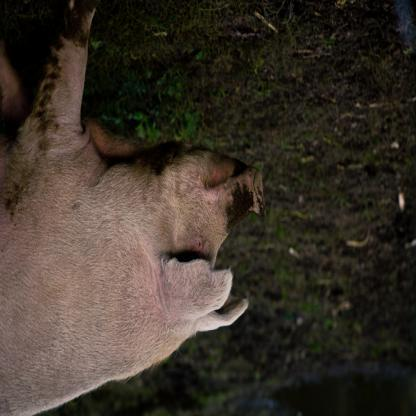boar: (0, 0, 265, 416)
